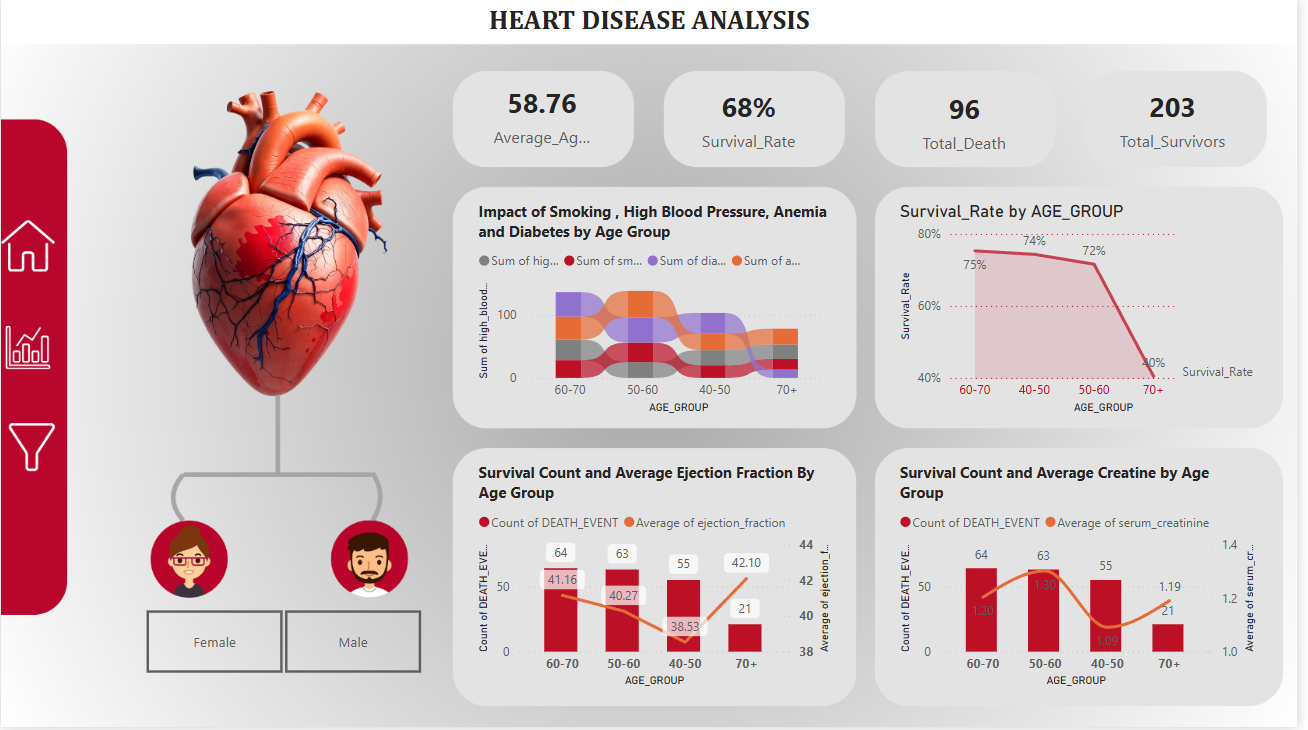

Layout of this report page (visuals, bound fields, positions):
{"tool":"powerbi","page":{"name":"Page 1","canvas":[1280,720],"ordinal":0},"visuals":[{"type":"textbox","box":[0,0,1280.3,45.2],"z":0},{"type":"card","fields":{"Values":["heart_Disease_clinical_records_.Survival_Rate"]},"box":[673,78.1,131.6,83.6],"z":1},{"type":"card","fields":{"Values":["heart_Disease_clinical_records_.Average_Age_Survival"]},"box":[479.8,78.1,108.3,75.4],"z":2},{"type":"card","fields":{"Values":["heart_Disease_clinical_records_.Total_Survivors"]},"box":[1096.6,78.1,122,83.6],"z":3},{"type":"card","fields":{"Values":["heart_Disease_clinical_records_.Total_Death"]},"box":[892.4,71.3,117.9,98.7],"z":4},{"type":"lineClusteredColumnComboChart","title":"Survival Count and Average Creatine by Age Group","fields":{"Y":["CountNonNull(heart_Disease_clinical_records_.DEATH_EVENT)"],"Y2":["Avg(heart_Disease_clinical_records_.serum_creatinine)"],"Category":["heart_Disease_clinical_records_.AGE_GROUP"]},"box":[882.8,457.8,361.9,227.5],"z":5},{"type":"lineClusteredColumnComboChart","title":"Survival Count and Average Ejection Fraction By Age Group","fields":{"Category":["heart_Disease_clinical_records_.AGE_GROUP"],"Y2":["Avg(heart_Disease_clinical_records_.ejection_fraction)"],"Y":["CountNonNull(heart_Disease_clinical_records_.DEATH_EVENT)"]},"box":[466.1,457.8,357.8,227.5],"z":6},{"type":"lineChart","fields":{"Category":["heart_Disease_clinical_records_.AGE_GROUP"],"Y":["heart_Disease_clinical_records_.Survival_Rate"]},"box":[882.8,200.1,361.9,215.2],"z":7},{"type":"ribbonChart","title":"Impact of Smoking , High Blood Pressure, Anemia and Diabetes by Age Group","fields":{"Category":["heart_Disease_clinical_records_.AGE_GROUP"],"Y":["Sum(heart_Disease_clinical_records_.high_blood_pressure)","Sum(heart_Disease_clinical_records_.smoking)","Sum(heart_Disease_clinical_records_.diabetes)","Sum(heart_Disease_clinical_records_.anaemia)"]},"box":[466.1,200.1,357.8,215.2],"z":8},{"type":"slicer","fields":{"Values":["heart_Disease_clinical_records_.Gender"]},"box":[119.3,600.4,319.4,71.3],"z":9}]}

Visuals, with their boxes in screenshot pixels (x1, y1, x2, y2), scaled from the page's 1280x720 canvas onto the 1308x730 screenshot:
textbox: {"x1": 0, "y1": 0, "x2": 1307, "y2": 46}
card - heart_Disease_clinical_records_.Survival_Rate: {"x1": 688, "y1": 79, "x2": 822, "y2": 164}
card - heart_Disease_clinical_records_.Average_Age_Survival: {"x1": 490, "y1": 79, "x2": 601, "y2": 156}
card - heart_Disease_clinical_records_.Total_Survivors: {"x1": 1121, "y1": 79, "x2": 1245, "y2": 164}
card - heart_Disease_clinical_records_.Total_Death: {"x1": 912, "y1": 72, "x2": 1032, "y2": 172}
"Survival Count and Average Creatine by Age Group" lineClusteredColumnComboChart: {"x1": 902, "y1": 464, "x2": 1272, "y2": 695}
"Survival Count and Average Ejection Fraction By Age Group" lineClusteredColumnComboChart: {"x1": 476, "y1": 464, "x2": 842, "y2": 695}
lineChart - heart_Disease_clinical_records_.AGE_GROUP x heart_Disease_clinical_records_.Survival_Rate: {"x1": 902, "y1": 203, "x2": 1272, "y2": 421}
"Impact of Smoking , High Blood Pressure, Anemia and Diabetes by Age Group" ribbonChart: {"x1": 476, "y1": 203, "x2": 842, "y2": 421}
slicer - heart_Disease_clinical_records_.Gender: {"x1": 122, "y1": 609, "x2": 448, "y2": 681}
